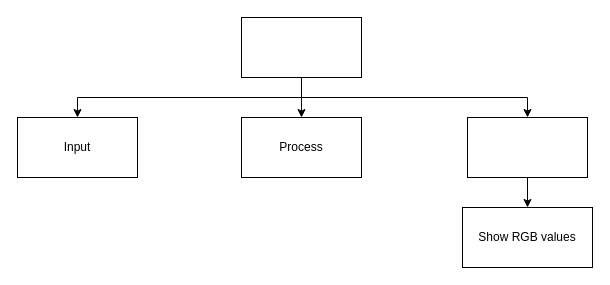
This 610x285 diagram has some shape labels left out. Here are the shapes that lost their labels. From the top down, the centre of each, then its label:
At point 301,47: "RGB Program".
At point 527,147: "Output".
